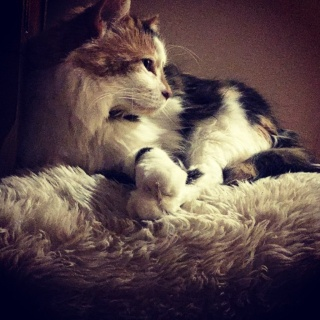Cat: (31, 0, 319, 217)
